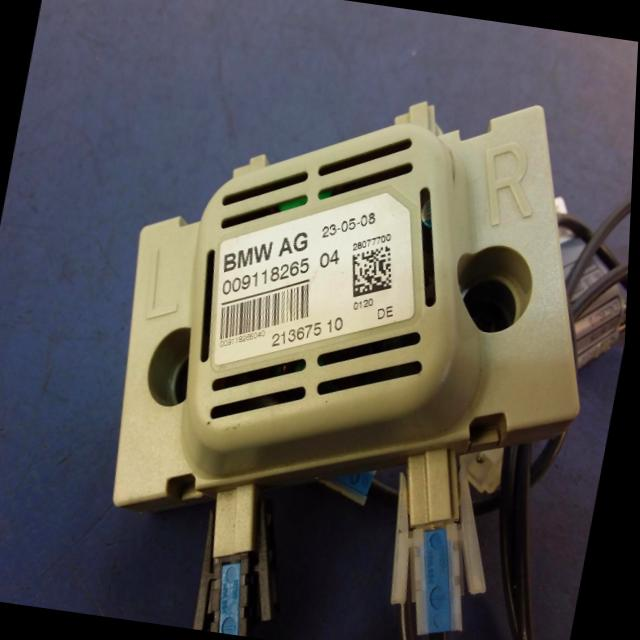datamatrix: (349, 243, 402, 304)
